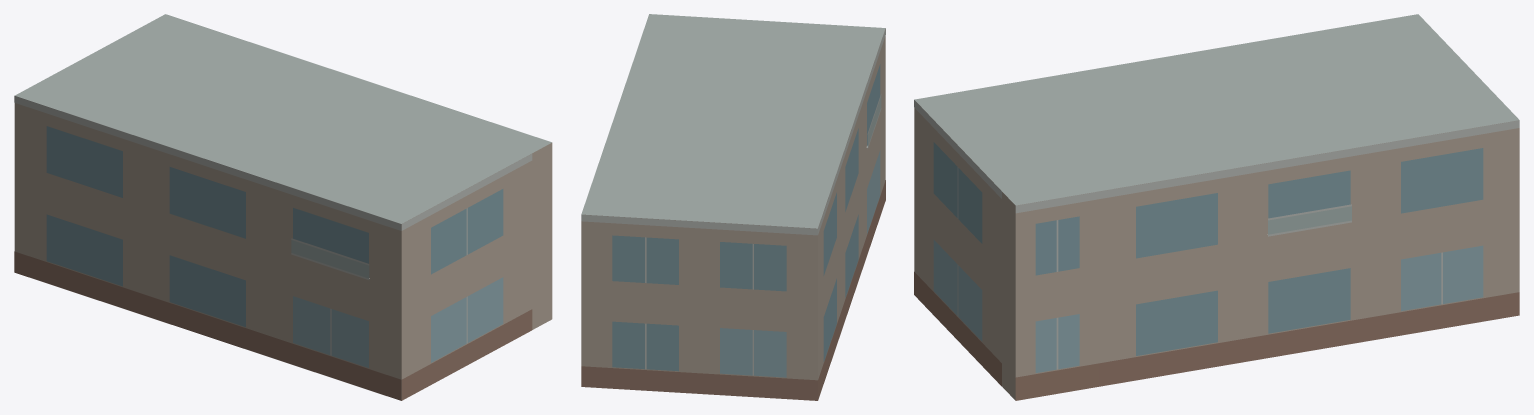
The model's file is survey-upis-32698446.glb.
The picture shows the model from 3 angles, left to right: view 1: azimuth 30°, elevation 25°; view 2: azimuth 150°, elevation 25°; view 3: azimuth 270°, elevation 25°; orthographic projection. The views are drawn at different scales.
Visible parts, largest first — view 1: survey-upis-32698446.tmp; view 2: survey-upis-32698446.tmp; view 3: survey-upis-32698446.tmp.
Boxes of the visible parts, box(x1,y1,x2,y2) form: survey-upis-32698446.tmp: box(14, 14, 552, 400); survey-upis-32698446.tmp: box(581, 14, 885, 400); survey-upis-32698446.tmp: box(914, 14, 1519, 400).
Size of the model in its own units: 12.84 by 6.1 by 17.15.
